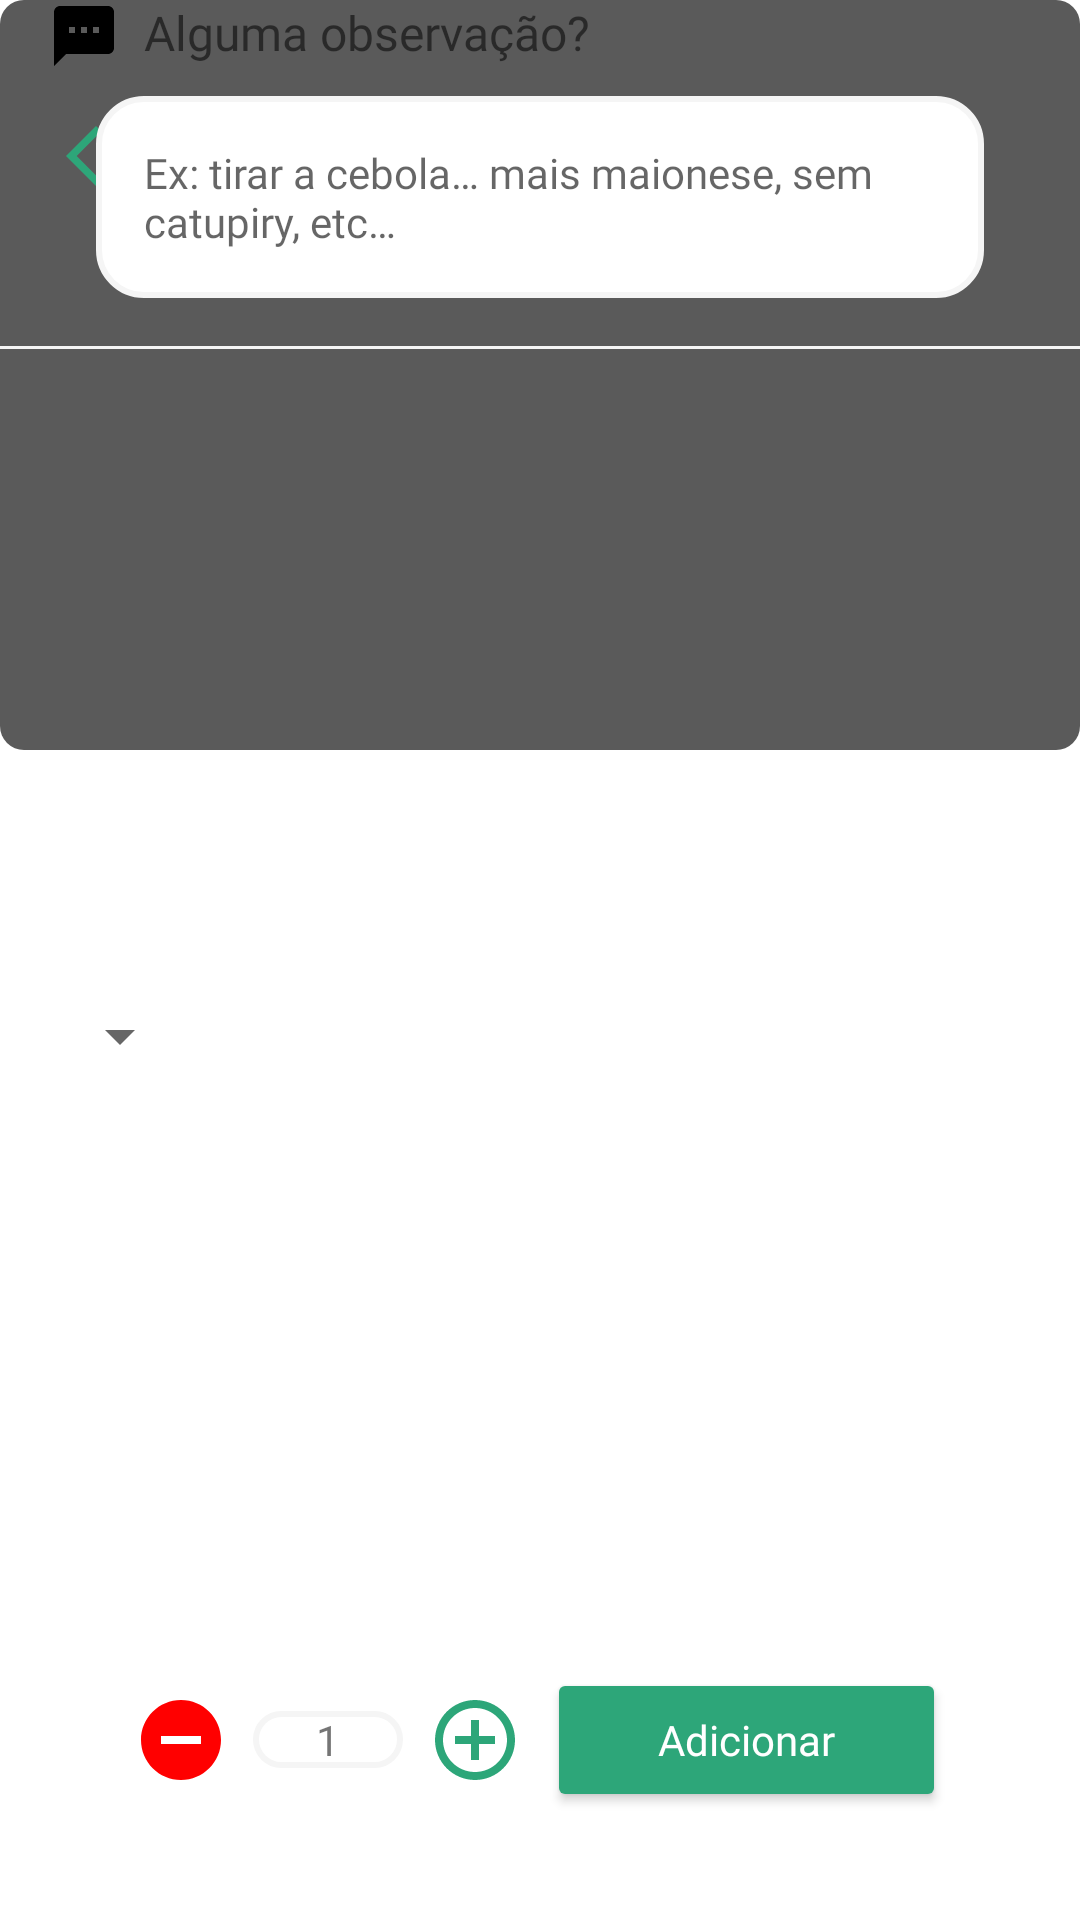

Icons on this 1080×1920 Android screen, each with the point to tap as (x,y):
add circle: (475,1740)
remove circle: (181,1740)
